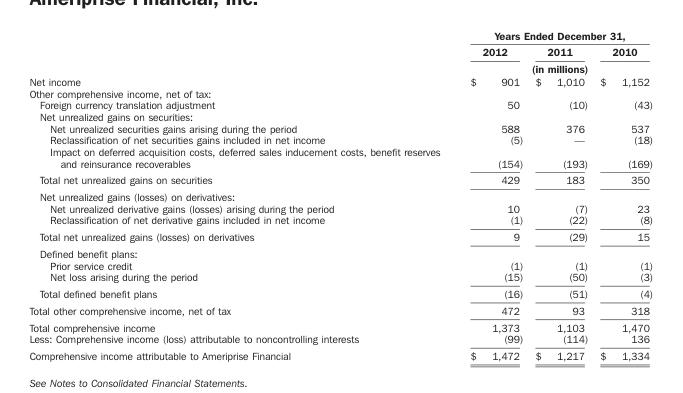table: (28, 28, 652, 361)
table column: (28, 28, 454, 361), (454, 28, 528, 361), (528, 28, 593, 361), (593, 28, 652, 361)
table column header: (28, 28, 652, 74)
table projected row header: (28, 187, 652, 202), (28, 244, 652, 259), (28, 110, 652, 122), (28, 87, 652, 98)
table row: (28, 145, 652, 171), (28, 43, 652, 60), (28, 284, 652, 301), (28, 301, 652, 318), (28, 171, 652, 187), (28, 228, 652, 244), (28, 28, 652, 43), (28, 187, 652, 202), (28, 213, 652, 228), (28, 244, 652, 259), (28, 346, 652, 361), (28, 60, 652, 74), (28, 270, 652, 284), (28, 318, 652, 332), (28, 332, 652, 346), (28, 74, 652, 87), (28, 98, 652, 110), (28, 110, 652, 122), (28, 133, 652, 145), (28, 87, 652, 98), (28, 122, 652, 133), (28, 202, 652, 213), (28, 259, 652, 270)
table spanning cell: (454, 28, 652, 43), (454, 60, 652, 74)
